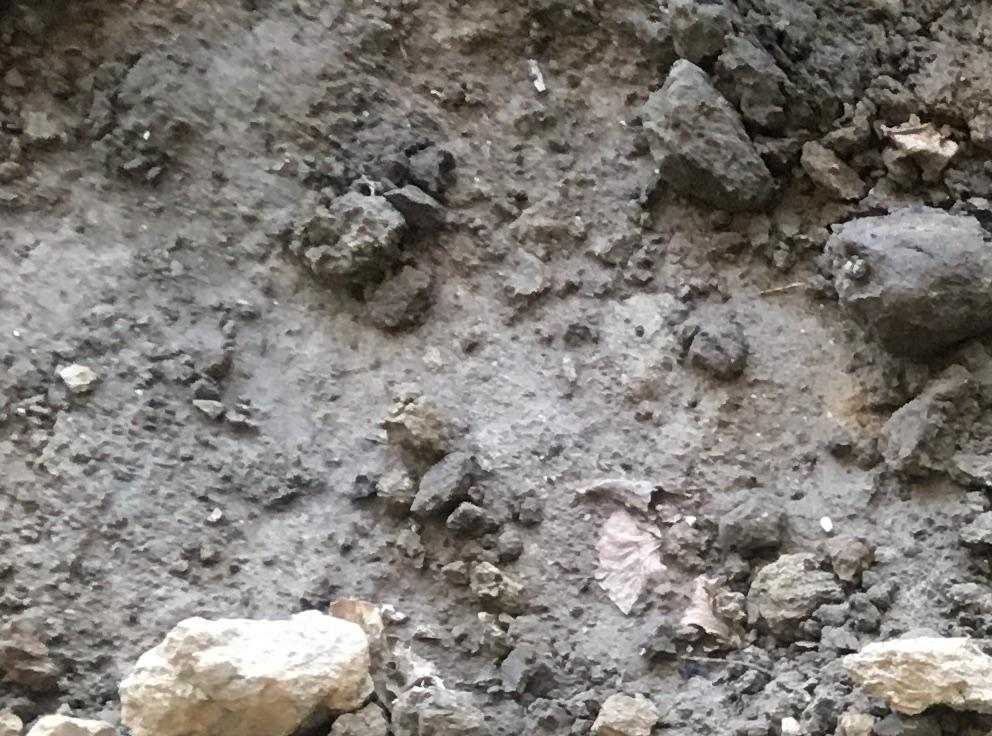block: (118, 616, 368, 736), (824, 204, 992, 353), (641, 57, 775, 215)
